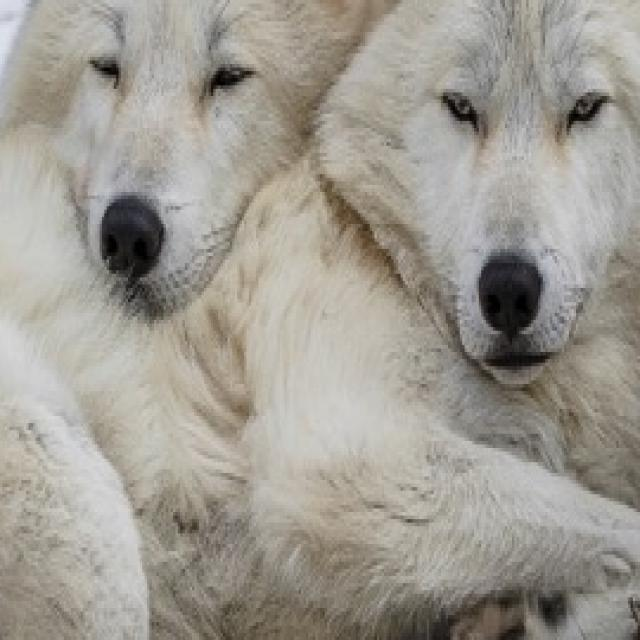wolf: (0, 0, 640, 640), (0, 0, 379, 306)
